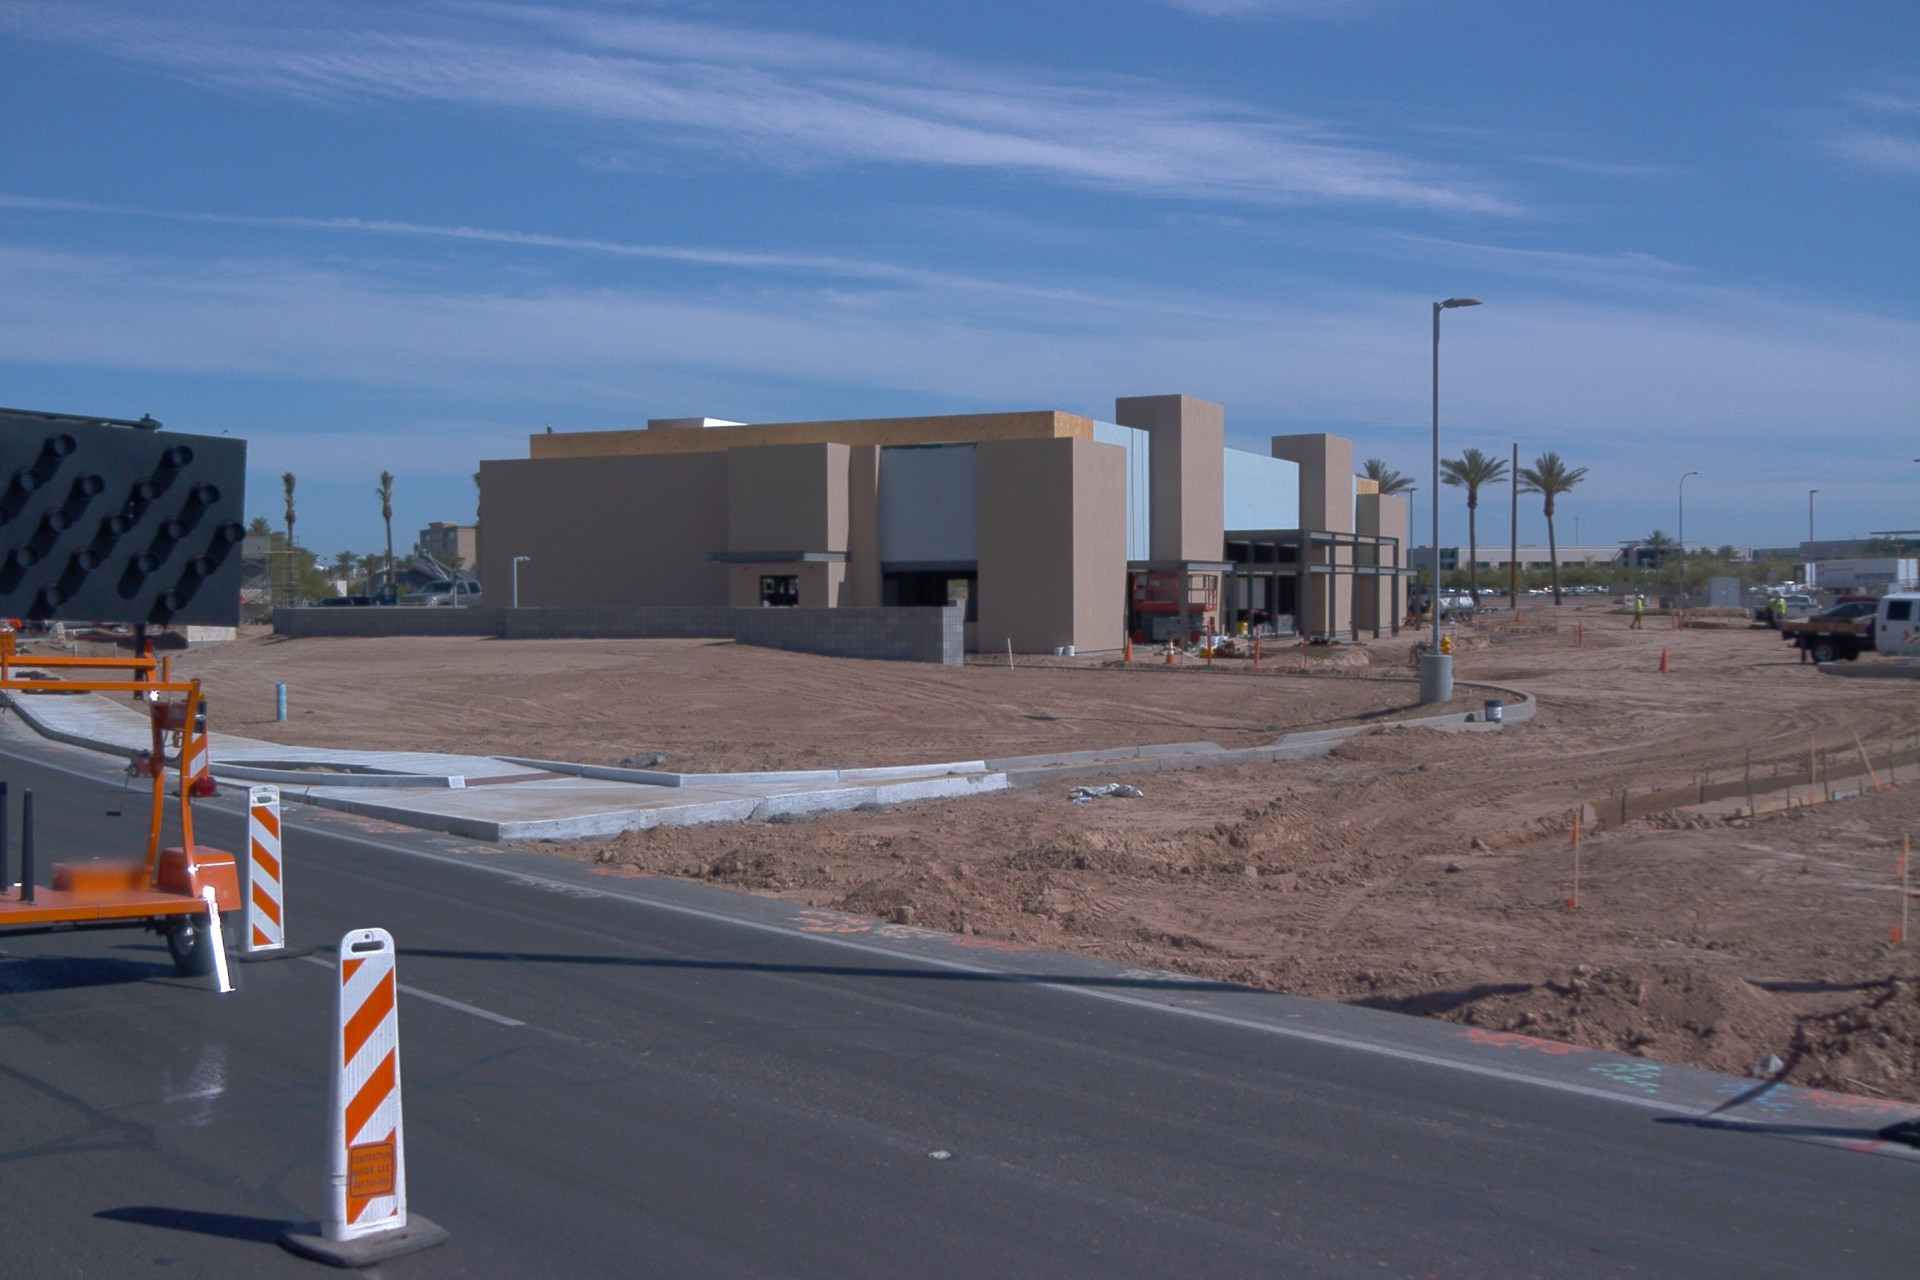TYPE_PEDESTRIAN: (1629, 591, 1651, 631), (1772, 591, 1790, 628), (1760, 594, 1779, 623)
TYPE_VEHICLE: (0, 403, 253, 994), (1773, 593, 1920, 666), (374, 542, 477, 606), (399, 575, 484, 611), (1438, 584, 1500, 621), (1774, 592, 1823, 621), (309, 592, 375, 606), (1834, 594, 1881, 605), (1477, 586, 1494, 597), (1458, 588, 1471, 596)
